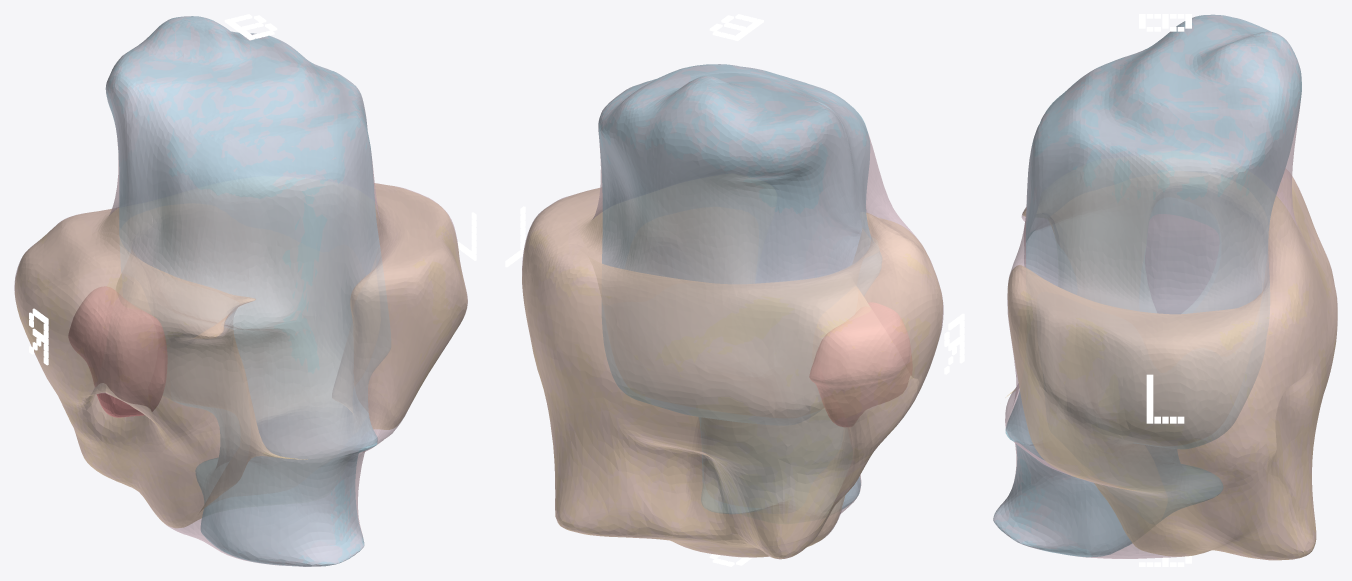
3 renders of one model, left to right at view 1: azimuth 30°, elevation 25°; view 2: azimuth 150°, elevation 25°; view 3: azimuth 270°, elevation 25°, orthographic. The views are drawn at different scales.
Parts seen in each view (by area): view 1: prostate_gland, transition_zone, peripheral_zone, lesion_01, pv_ar_marker_B, pv_ar_marker_R; view 2: prostate_gland, peripheral_zone, transition_zone, lesion_01, pv_ar_marker_B, pv_ar_marker_R; view 3: prostate_gland, transition_zone, peripheral_zone, lesion_01, pv_ar_marker_L, pv_ar_marker_B.
Boxes of the visible parts, <box> form: prostate_gland: <box>14,16,467,566</box>; transition_zone: <box>106,16,390,566</box>; peripheral_zone: <box>15,183,467,527</box>; lesion_01: <box>68,286,167,417</box>; pv_ar_marker_B: <box>224,14,277,40</box>; pv_ar_marker_R: <box>29,308,48,365</box>; prostate_gland: <box>522,64,943,559</box>; peripheral_zone: <box>522,188,942,558</box>; transition_zone: <box>598,64,881,513</box>; lesion_01: <box>809,302,912,426</box>; pv_ar_marker_B: <box>709,14,763,40</box>; pv_ar_marker_R: <box>944,313,964,374</box>; prostate_gland: <box>993,15,1337,560</box>; transition_zone: <box>993,14,1301,557</box>; peripheral_zone: <box>1007,177,1337,560</box>; lesion_01: <box>1145,214,1218,313</box>; pv_ar_marker_L: <box>1146,374,1184,423</box>; pv_ar_marker_B: <box>1139,14,1191,31</box>.
Size of the model in its own units: 0.0519 by 0.0595 by 0.0346.
